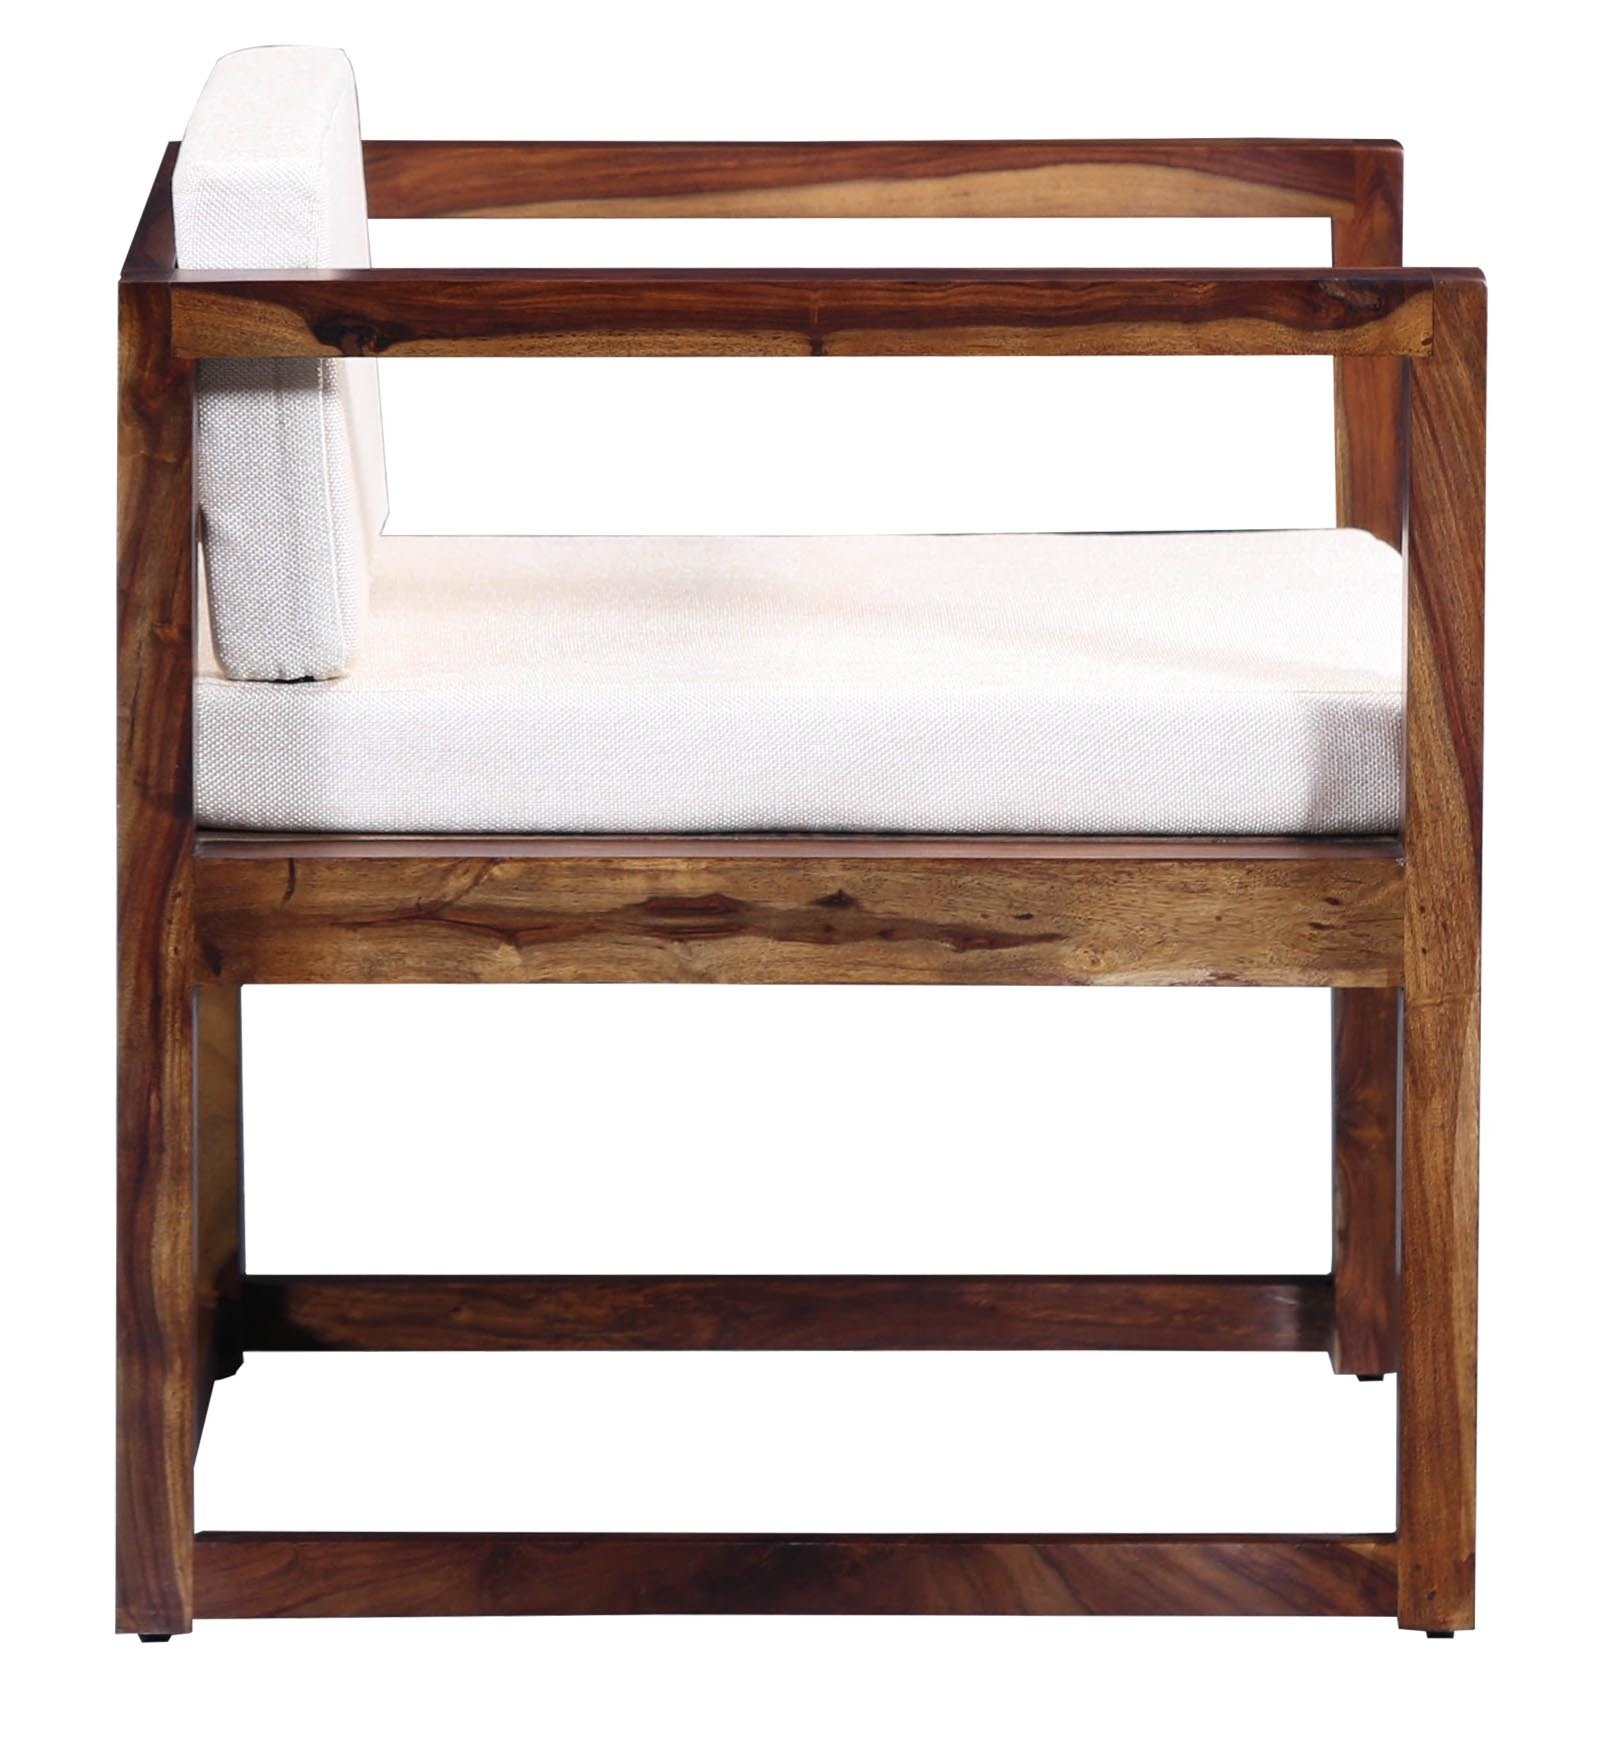Avian Arm Chair in Provincial Teak Finish by Woodsworth: (77, 31, 1519, 1716)
